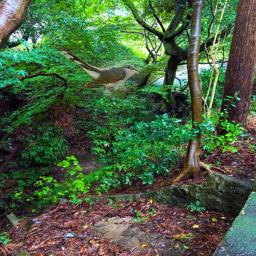Cuckoo: (58, 45, 143, 99)
